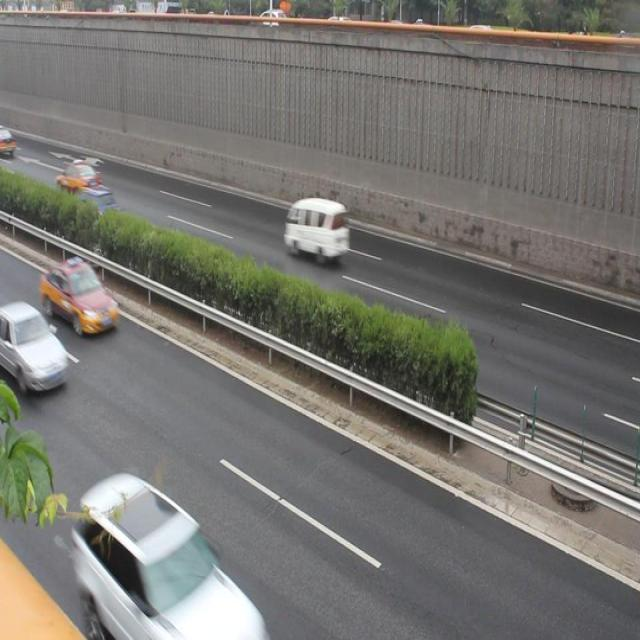car: (71, 477, 259, 640), (1, 299, 67, 393), (42, 258, 118, 336), (70, 186, 120, 226), (57, 159, 100, 200)
truck: (284, 196, 349, 261)
